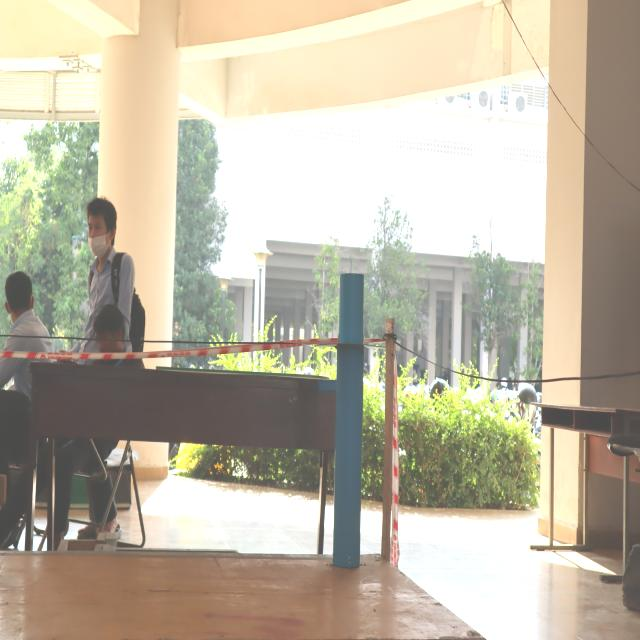pole: (317, 268, 387, 416)
